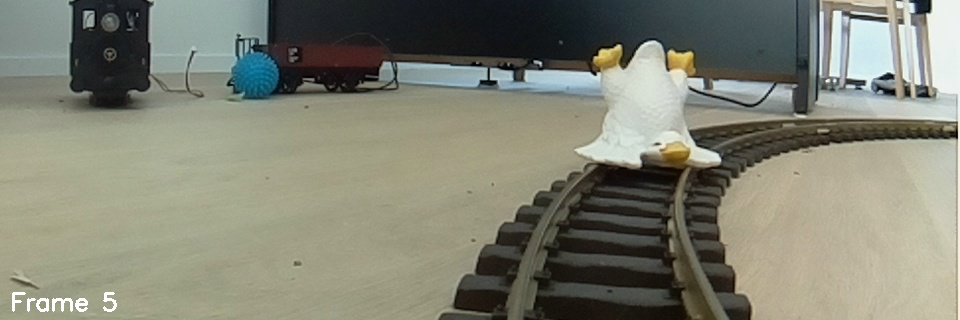Ente: (568, 32, 726, 178)
